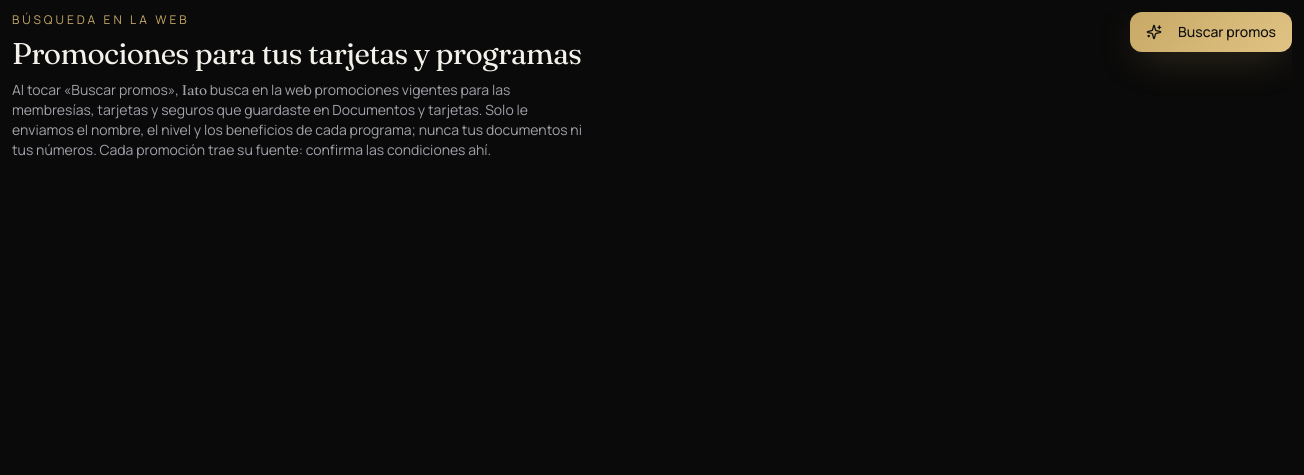
PromocionesActivas (pantalla) › muestra cada promoción con su fuente y explica qué se manda a la IA
Expected: the text "nunca tus documentos ni tus números" is shown, [12,80,582,159]
Click the button "Buscar promos" at (1211, 32), box [1130,12,1292,52]
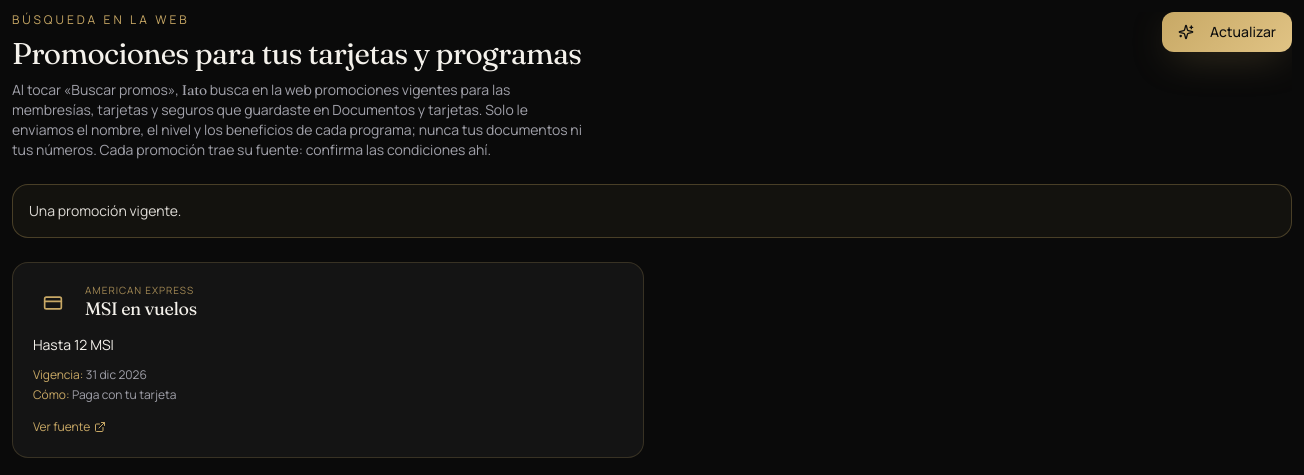
Expected: the heading "MSI en vuelos" is shown, [85,297,197,320]
